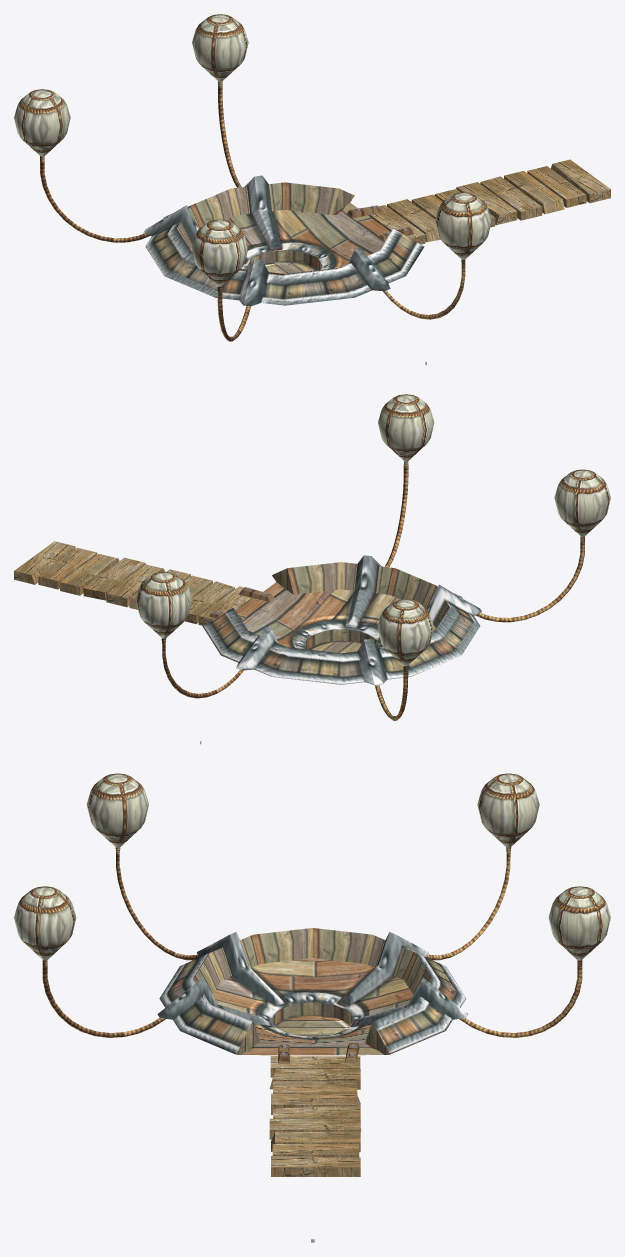
Rendered from PE_Balloon.FBX.
The picture shows the model from 3 angles, top to bottom: view 1: azimuth 30°, elevation 25°; view 2: azimuth 150°, elevation 25°; view 3: azimuth 270°, elevation 25°; orthographic projection. The views are drawn at different scales.
Parts seen in each view (by area): view 1: PE_Balloon_Platform, PE_Balloon_Platform_05, PE_Balloon_Ballon02, PE_Balloon_Ballon01, PE_Balloon_Ballon04, PE_Balloon_Ballon03, PE_Balloon_Platform_04, PE_Balloon_Platform_CollTester, PE_Balloon_Platte08, PE_Balloon_Platte05, PE_Balloon_Platform_06, PE_Balloon_Platte06 (+7 smaller); view 2: PE_Balloon_Platform, PE_Balloon_Platform_05, PE_Balloon_Ballon01, PE_Balloon_Ballon02, PE_Balloon_Ballon03, PE_Balloon_Ballon04, PE_Balloon_Platform_06, PE_Balloon_Platform_CollTester, PE_Balloon_Platte08, PE_Balloon_Platform_04, PE_Balloon_Platte05, PE_Balloon_Platte06 (+7 smaller); view 3: PE_Balloon_Platform, PE_Balloon_Platform_05, PE_Balloon_Ballon01, PE_Balloon_Ballon02, PE_Balloon_Ballon04, PE_Balloon_Ballon03, PE_Balloon_Platform_06, PE_Balloon_Platform_04, PE_Balloon_Platform_CollTester, PE_Balloon_Platte08, PE_Balloon_Platte05, PE_Balloon_Platte03 (+9 smaller).
Boxes of the visible parts, x1,y1,x2,y2 form: PE_Balloon_Platform: [143, 175, 405, 306]; PE_Balloon_Platform_05: [285, 196, 425, 269]; PE_Balloon_Ballon02: [191, 219, 248, 286]; PE_Balloon_Ballon01: [435, 192, 491, 259]; PE_Balloon_Ballon04: [192, 14, 248, 81]; PE_Balloon_Ballon03: [14, 89, 70, 156]; PE_Balloon_Platform_04: [285, 182, 354, 215]; PE_Balloon_Platform_CollTester: [247, 250, 322, 273]; PE_Balloon_Platte08: [551, 159, 610, 203]; PE_Balloon_Platte05: [480, 176, 542, 220]; PE_Balloon_Platform_06: [379, 228, 424, 275]; PE_Balloon_Platte06: [504, 171, 564, 214]; PE_Balloon_Platform: [221, 555, 481, 685]; PE_Balloon_Platform_05: [198, 575, 341, 649]; PE_Balloon_Ballon01: [378, 394, 434, 461]; PE_Balloon_Ballon02: [554, 469, 610, 536]; PE_Balloon_Ballon03: [377, 599, 433, 666]; PE_Balloon_Ballon04: [135, 571, 192, 638]; PE_Balloon_Platform_06: [272, 562, 341, 594]; PE_Balloon_Platform_CollTester: [304, 629, 378, 653]; PE_Balloon_Platte08: [14, 541, 75, 584]; PE_Balloon_Platform_04: [202, 607, 247, 654]; PE_Balloon_Platte05: [83, 557, 145, 600]; PE_Balloon_Platte06: [60, 554, 119, 595]; PE_Balloon_Platform: [157, 928, 467, 1030]; PE_Balloon_Platform_05: [237, 1027, 388, 1077]; PE_Balloon_Ballon01: [14, 886, 76, 960]; PE_Balloon_Ballon02: [86, 773, 148, 847]; PE_Balloon_Ballon04: [548, 886, 610, 960]; PE_Balloon_Ballon03: [477, 773, 539, 847]; PE_Balloon_Platform_06: [180, 1003, 259, 1054]; PE_Balloon_Platform_04: [366, 1003, 445, 1054]; PE_Balloon_Platform_CollTester: [271, 1002, 353, 1036]; PE_Balloon_Platte08: [271, 1156, 360, 1176]; PE_Balloon_Platte05: [269, 1118, 361, 1139]; PE_Balloon_Platte03: [271, 1093, 360, 1114].
Bounding box in the file's own units: 34.35 × 18.96 × 33.29.
Materials: 6 (4 with a texture image).
